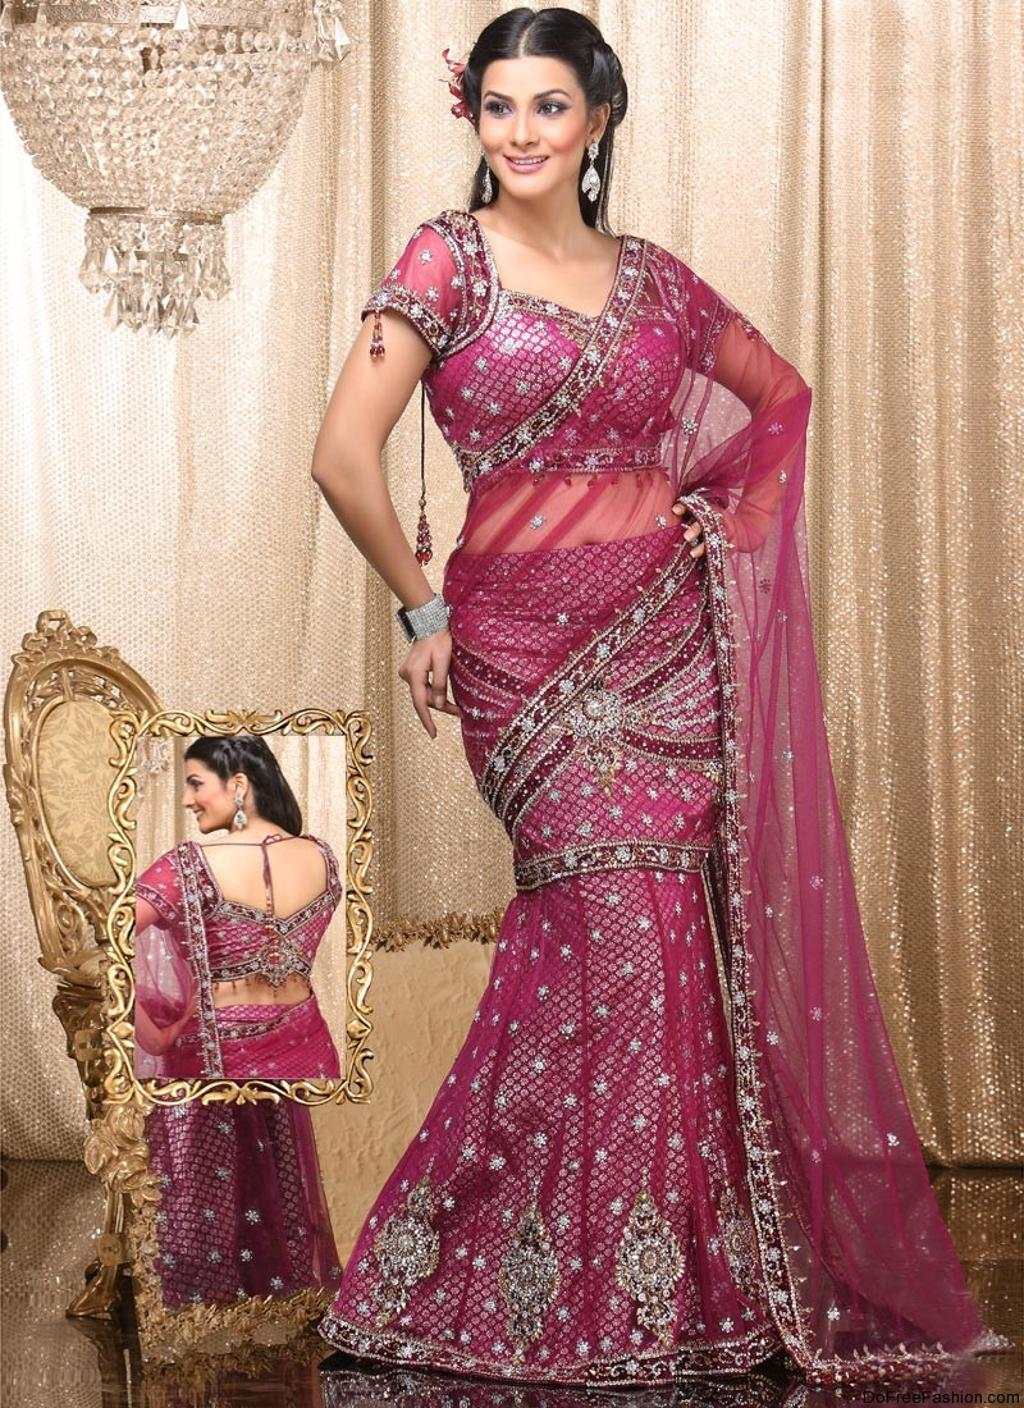face: (479, 57, 589, 198), (182, 765, 236, 832)
